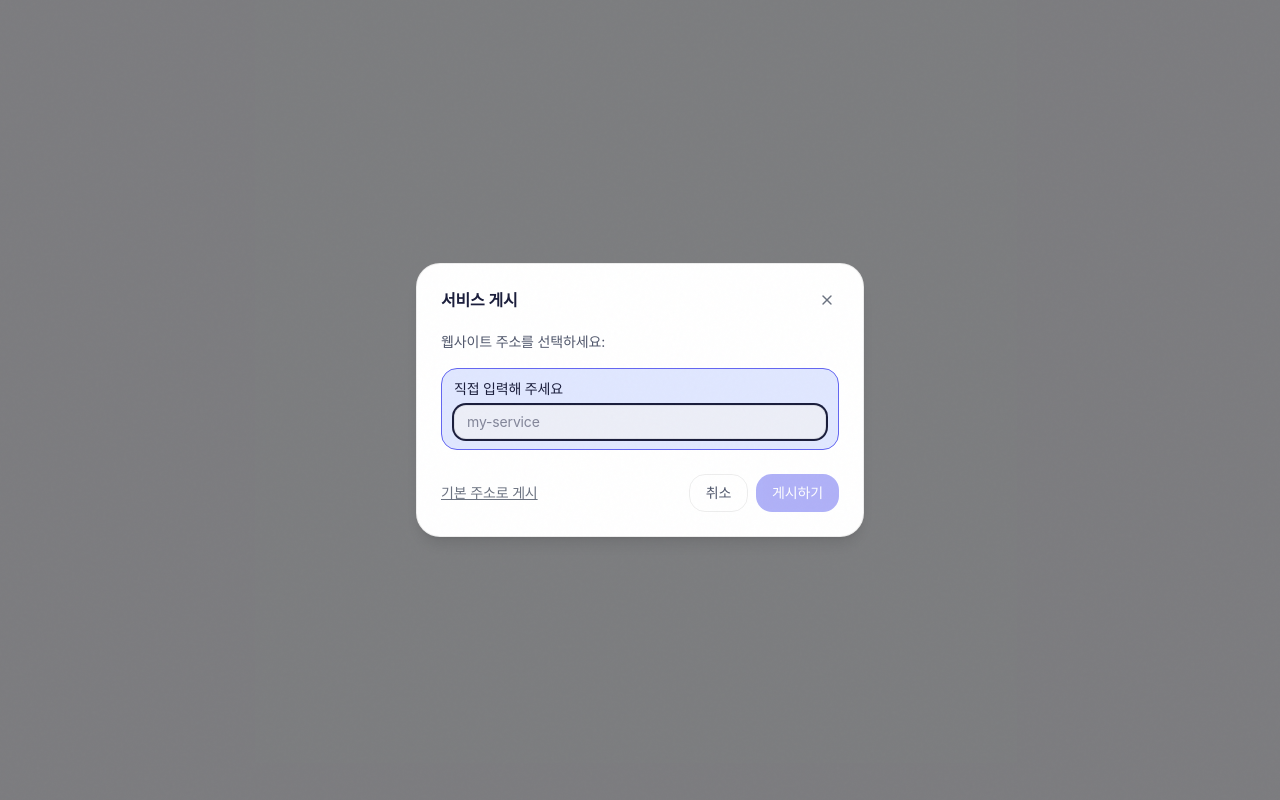
Test: PublishDialog › 게시 실패 › publish가 Error로 거부되면 메시지를 보여주고 다이얼로그를 닫지 않는다
This screenshot has width=1280, height=800.
Click the button "기본 주소로 게시" at [489, 493], box [441,483,538,503]
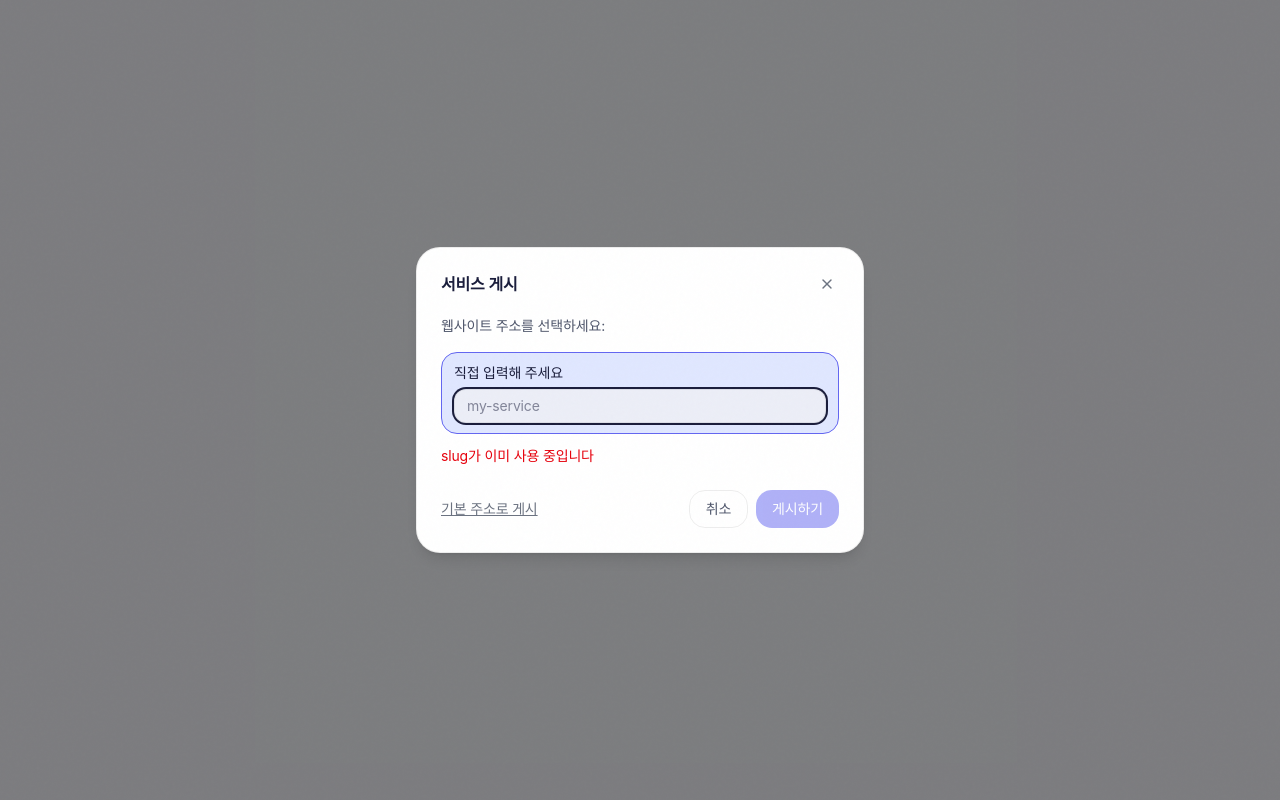
expect the text "slug가 이미 사용 중입니다" is shown: met, box [441,447,594,464]
